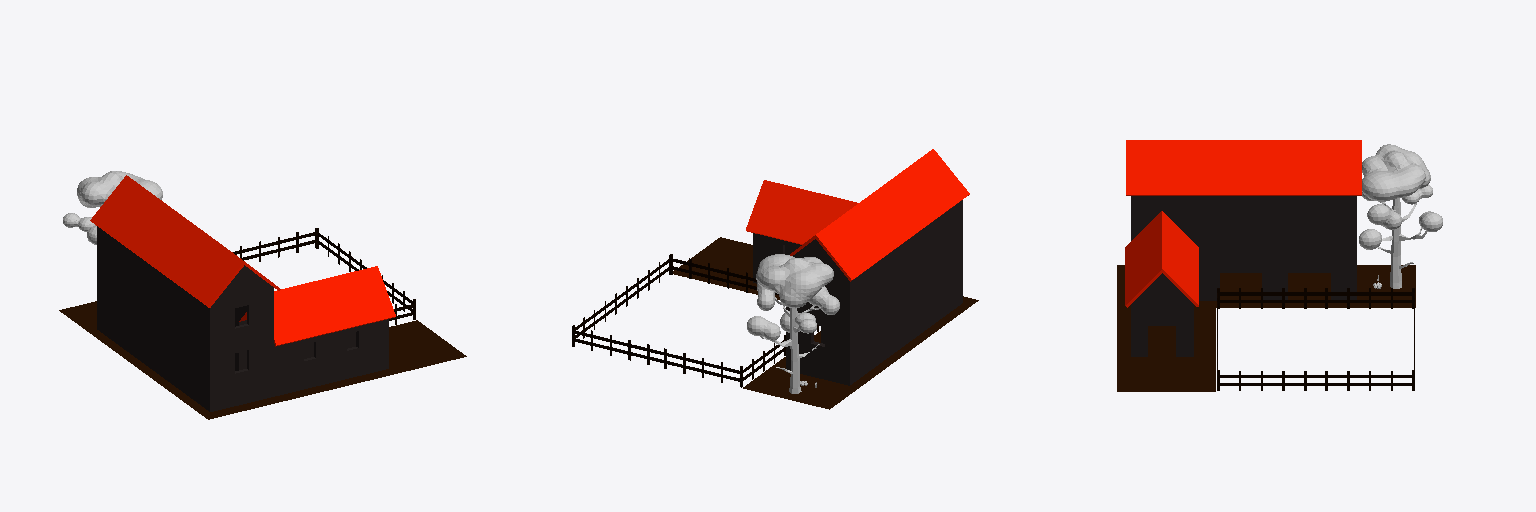
The model's file is vertices.obj.
The picture shows the model from 3 angles: view 1: azimuth 30°, elevation 25°; view 2: azimuth 150°, elevation 25°; view 3: azimuth 270°, elevation 25°; orthographic projection.
Parts seen in each view (by area): view 1: Farm_Cube.008; view 2: Farm_Cube.008; view 3: Farm_Cube.008.
Boxes of the visible parts, box(x1,y1,x2,y2) form: Farm_Cube.008: box(59, 171, 466, 419); Farm_Cube.008: box(572, 149, 978, 409); Farm_Cube.008: box(1117, 140, 1442, 391).
Bounding box in the file's own units: 6 × 3.22 × 6.56.